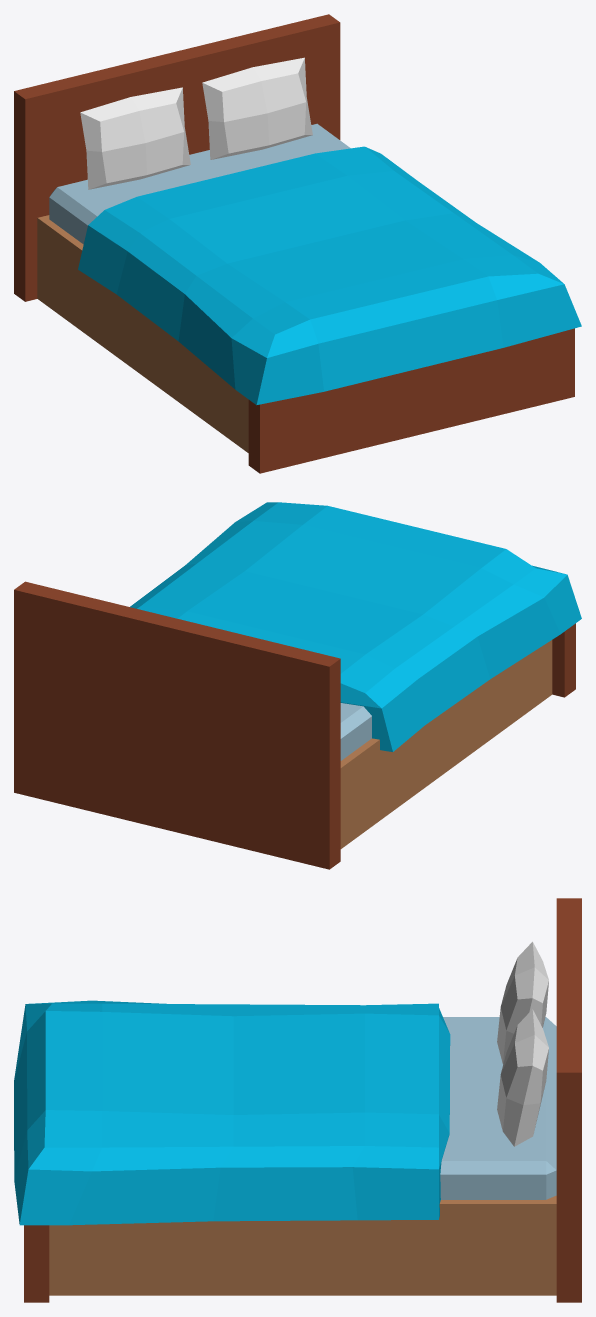
File: Bed_Large.fbx
3 views of the same model, one above another, from view 1: azimuth 30°, elevation 25°; view 2: azimuth 150°, elevation 25°; view 3: azimuth 270°, elevation 25° (orthographic). The views are drawn at different scales.
Parts seen in each view (by area): view 1: bed-large; view 2: bed-large; view 3: bed-large.
Part boxes in pixels (bbox=[...]): bed-large: bbox=[14, 14, 581, 473]; bed-large: bbox=[14, 502, 581, 869]; bed-large: bbox=[14, 898, 581, 1302].
Size of the model in its own units: 1.68 by 1 by 2.24.
